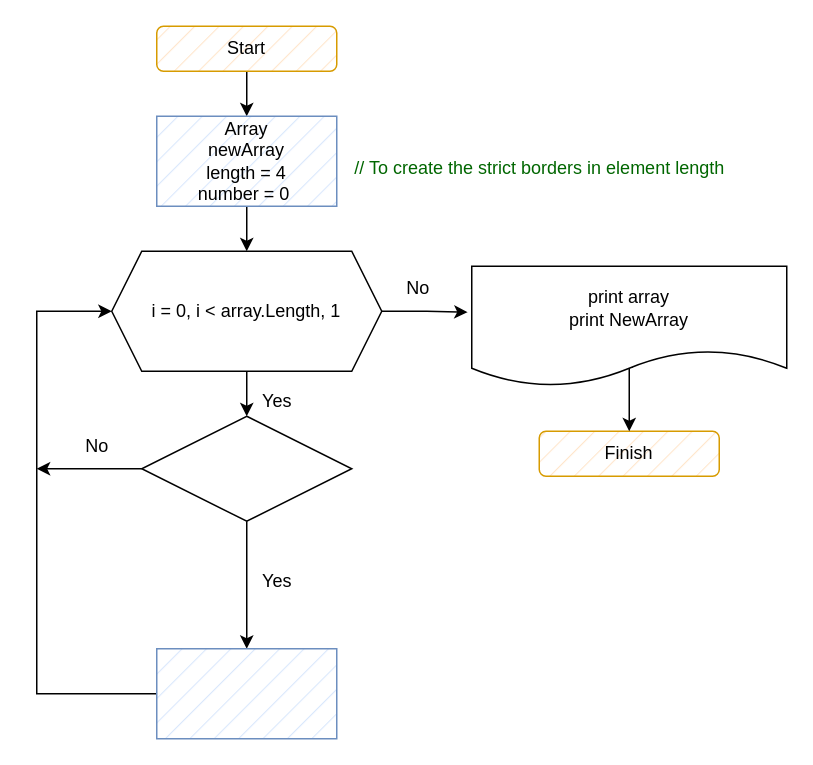
Some shapes in this 813 by 765 pixel diagram are drawn without their labels. Here are the shapes that lost their labels. From the top down, the centre of each, then its label:
At pixel 246 468: "array[i] < length".
At pixel 246 693: "newArray[number] = array[i] number + 1".
